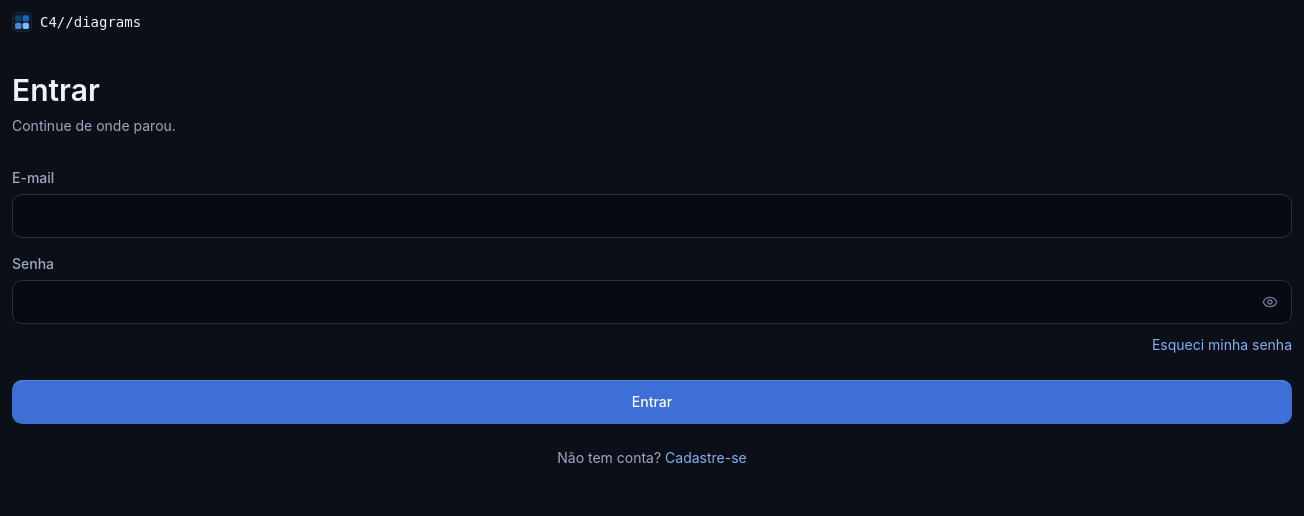
Test: Login › deve exibir erro quando o token retornado tem formato inválido
In the field labelled "E-mail": (652,216) [12,194,1292,238], type "joao@example.com"
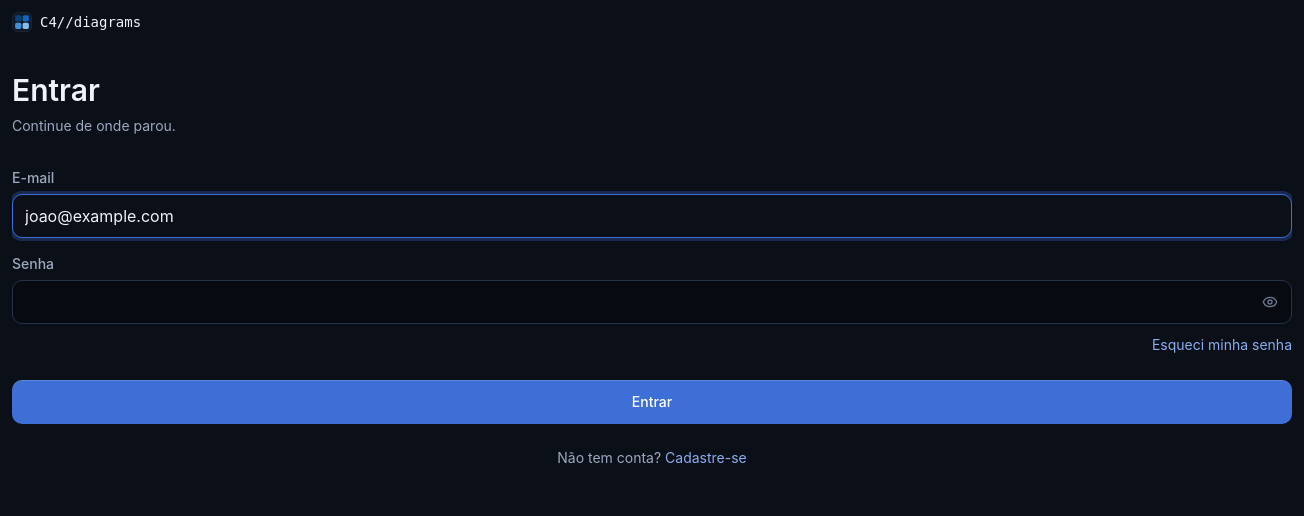
In the password field labelled "Senha": (652,302) [12,280,1292,324], type "Senha@12345"
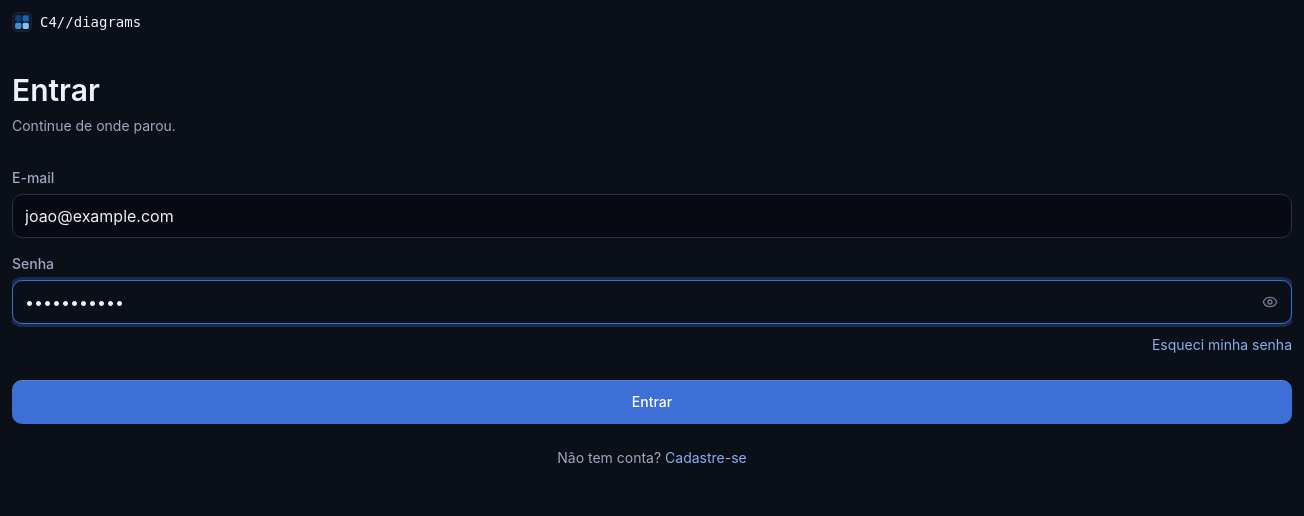
Click the button "Entrar": (652,402) [12,380,1292,424]
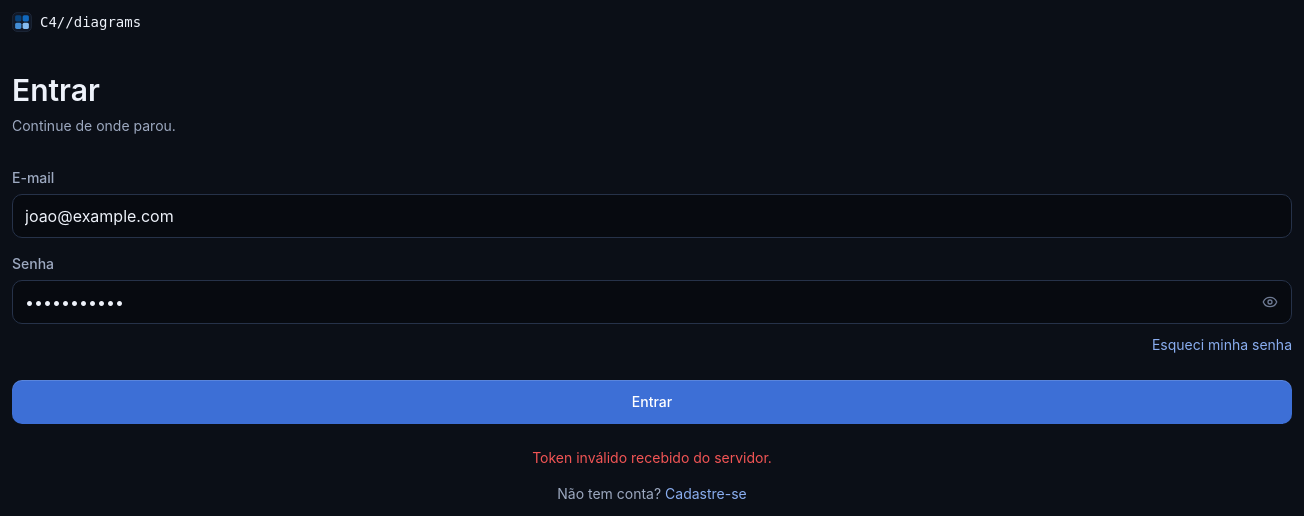
Now the text "Token inválido recebido do servidor." is shown, box [532,449,772,466]
